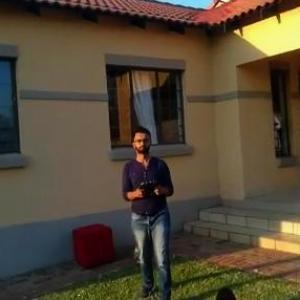follow: (118, 121, 180, 299)
